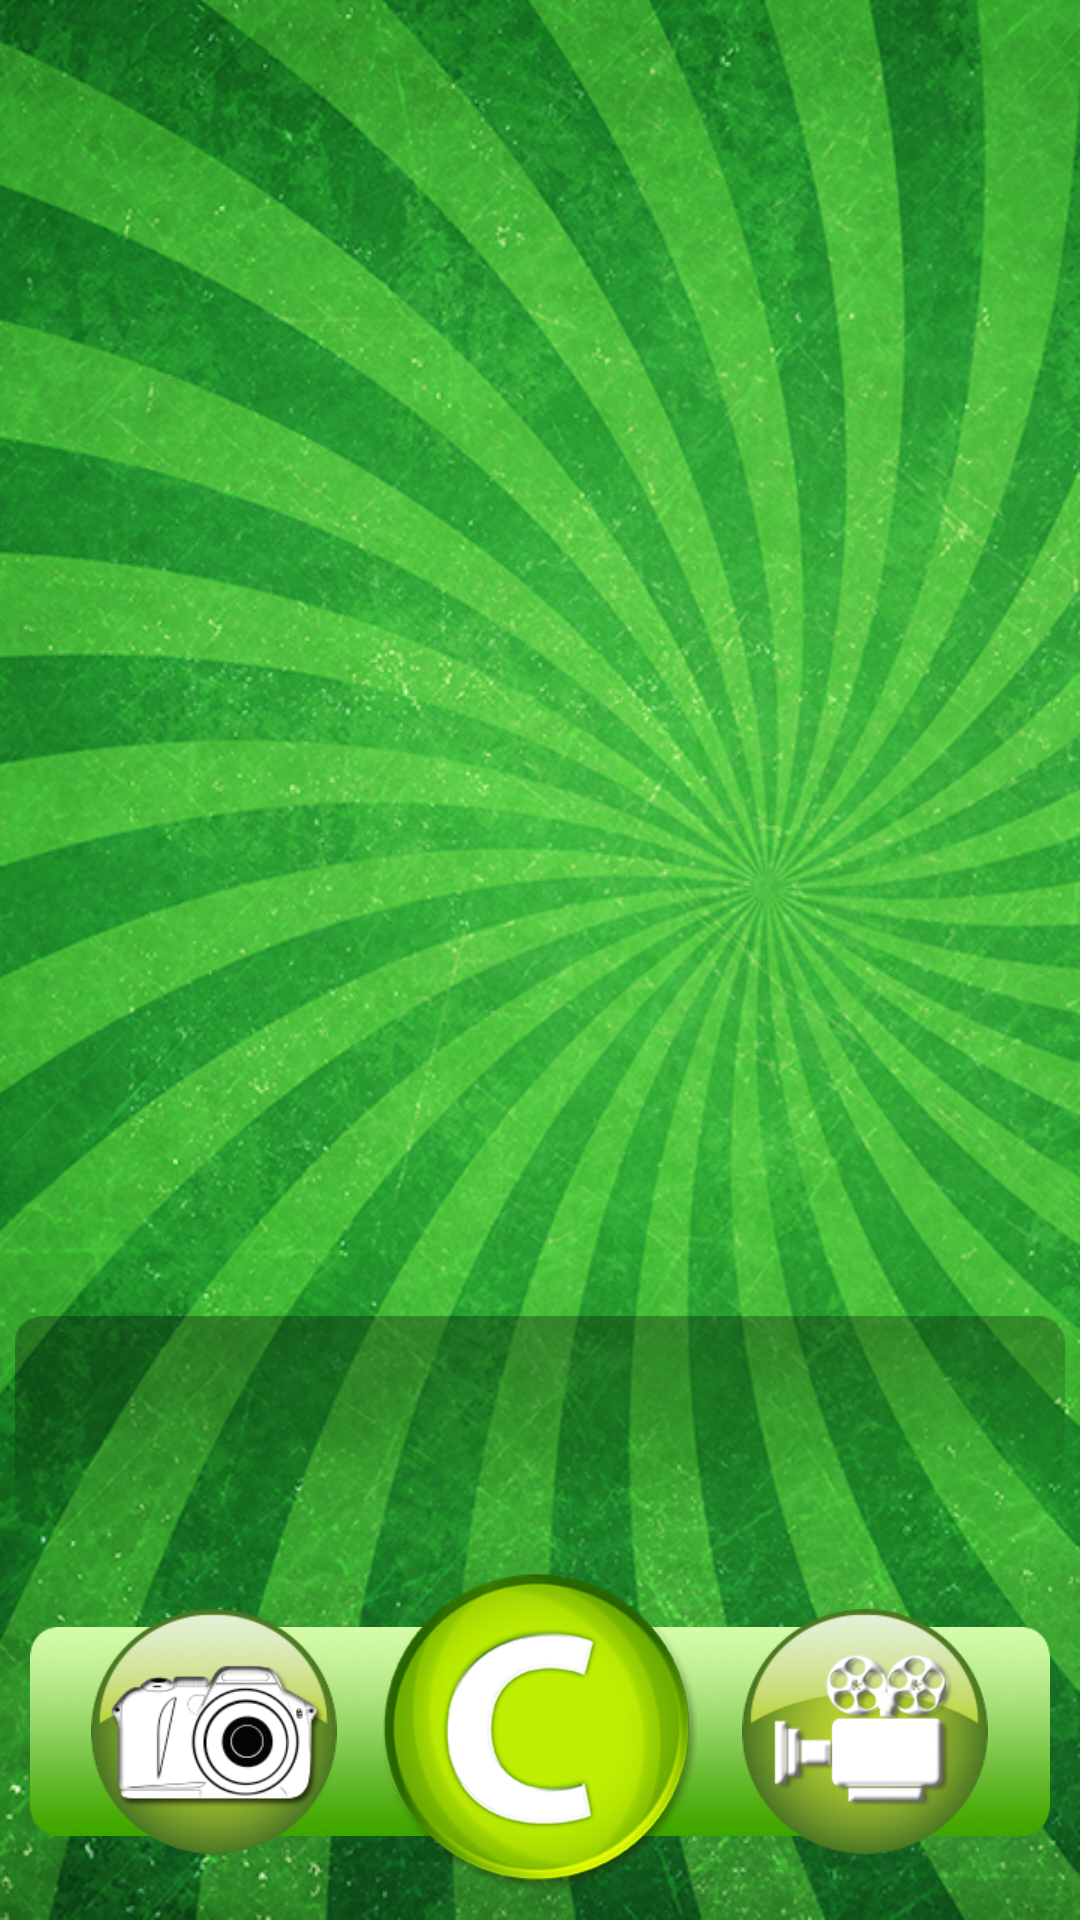

Point at icon controls on the screen. Image size 1080px x 1920px, points as (x=x, y=y).
take photo: (x=214, y=1731)
take video: (x=865, y=1731)
